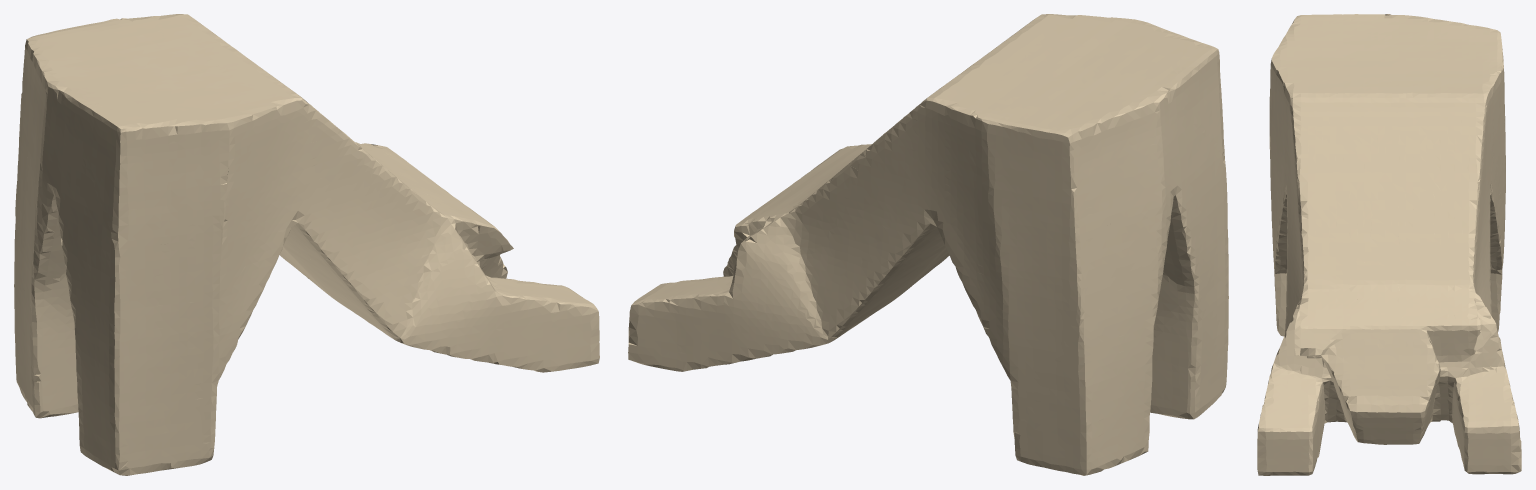
The model's file is dyr-03.glb.
The picture shows the model from 3 angles, left to right: view 1: azimuth 30°, elevation 25°; view 2: azimuth 150°, elevation 25°; view 3: azimuth 270°, elevation 25°; orthographic projection. The views are drawn at different scales.
Visible parts, largest first — view 1: ny-03; view 2: ny-03; view 3: ny-03.
Boxes of the visible parts, box(x1,y1,x2,y2) form: ny-03: box(14, 14, 599, 475); ny-03: box(628, 14, 1228, 475); ny-03: box(1257, 14, 1521, 475).
Size of the model in its own units: 0.9996 by 0.7099 by 0.583.
